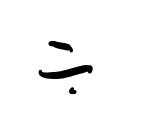div: (39, 41, 93, 94)
